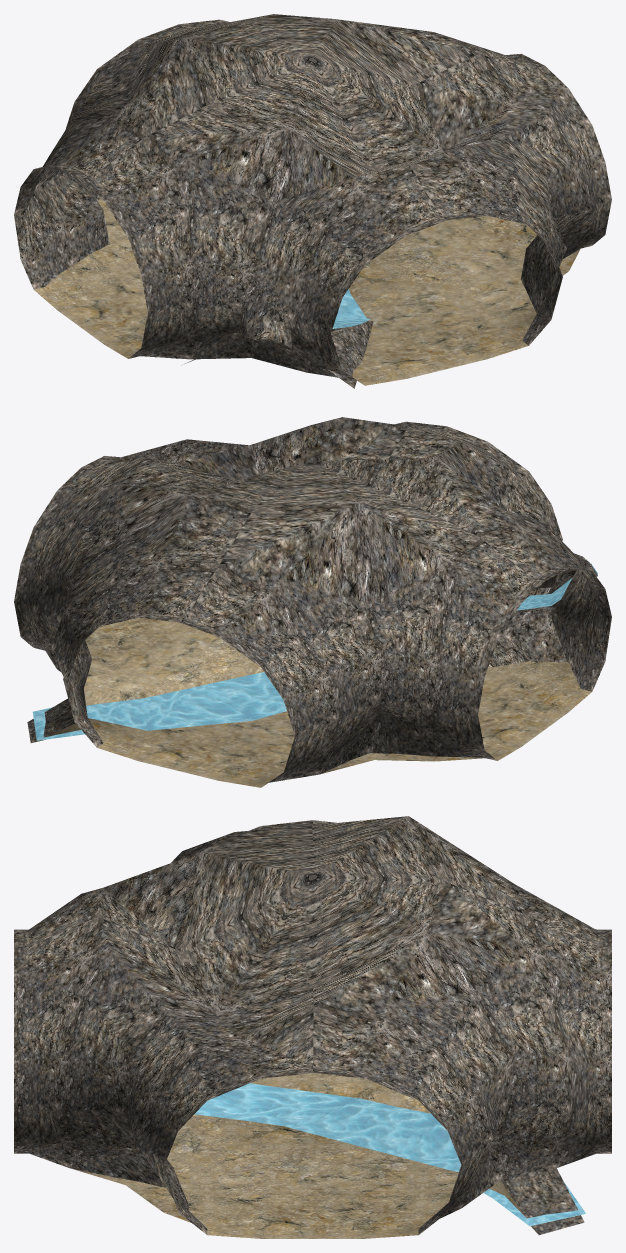
File: pir_m_are_cav_fourway200_water.fbx
3 renders of one model, top to bottom at view 1: azimuth 30°, elevation 25°; view 2: azimuth 150°, elevation 25°; view 3: azimuth 270°, elevation 25°, orthographic. The views are drawn at different scales.
Visible parts, largest first — view 1: fourway200_wall, fourway200_floor, rockBase, streamSlow; view 2: fourway200_wall, fourway200_floor, streamSlow, rockBase; view 3: fourway200_wall, fourway200_floor, streamSlow.
Boxes of the visible parts, <box> form: fourway200_wall: <box>14,14,611,383</box>; fourway200_floor: <box>34,198,580,385</box>; rockBase: <box>181,321,373,388</box>; streamSlow: <box>332,289,369,328</box>; fourway200_wall: <box>14,417,611,785</box>; fourway200_floor: <box>32,617,591,787</box>; streamSlow: <box>33,563,597,740</box>; rockBase: <box>489,587,566,666</box>; fourway200_wall: <box>14,816,611,1234</box>; fourway200_floor: <box>71,1073,537,1238</box>; streamSlow: <box>194,1083,585,1225</box>.
Size of the model in its own units: 20000 by 10006 by 20000.
Materials: 4 (4 with a texture image).
